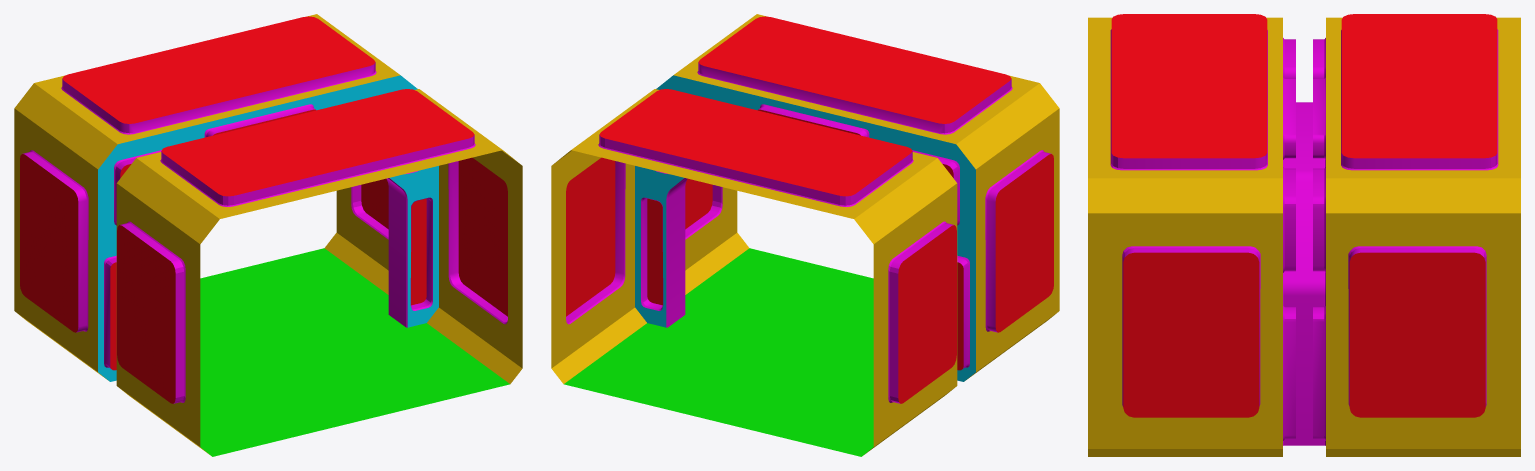
Rendered from Arch Corridor.fbx.
The picture shows the model from 3 angles, left to right: view 1: azimuth 30°, elevation 25°; view 2: azimuth 150°, elevation 25°; view 3: azimuth 270°, elevation 25°; orthographic projection. The views are drawn at different scales.
Visible parts, largest first — view 1: Arch+Ground; view 2: Arch+Ground; view 3: Arch+Ground.
Part boxes in pixels (x1,y1,x2,y2): Arch+Ground: (14, 14, 522, 456); Arch+Ground: (551, 14, 1059, 456); Arch+Ground: (1088, 14, 1520, 456).
Bounding box in the file's own units: 1060 × 730 × 1000.
